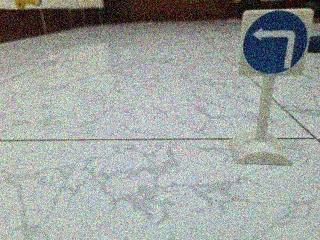left: (231, 8, 315, 87)
